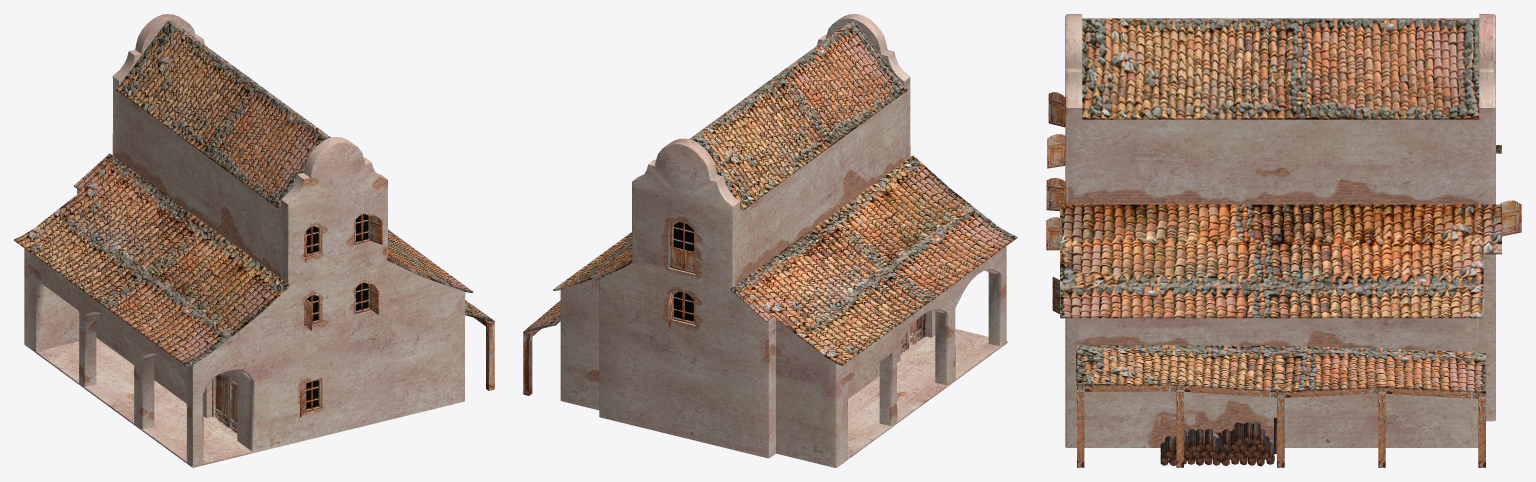
Rendered from Villa.glb.
3 renders of one model, left to right at view 1: azimuth 30°, elevation 25°; view 2: azimuth 150°, elevation 25°; view 3: azimuth 270°, elevation 25°, orthographic. The views are drawn at different scales.
Visible parts, largest first — view 1: Box001, Box009, Box006, Box005, Box002, Box010, Box003, Box004; view 2: Box001, Box008, Box007, Box010, Box009; view 3: Box001, Object001_Material #2_0, Box010, Box007, Box006, Box003, Box004.
Boxes of the visible parts, <box> form: Box001: <box>14,14,473,467</box>; Box009: <box>212,373,237,434</box>; Box006: <box>354,212,382,244</box>; Box005: <box>354,281,378,314</box>; Box002: <box>300,378,321,417</box>; Box010: <box>474,317,494,390</box>; Box003: <box>304,293,321,330</box>; Box004: <box>304,225,321,262</box>; Box001: <box>553,14,1017,467</box>; Box008: <box>669,220,695,273</box>; Box007: <box>669,290,695,328</box>; Box010: <box>523,329,540,395</box>; Box009: <box>900,313,925,354</box>; Box001: <box>1060,14,1501,447</box>; Object001_Material #2_0: <box>1076,345,1485,393</box>; Box010: <box>1077,385,1485,467</box>; Box007: <box>1499,200,1521,236</box>; Box006: <box>1047,134,1065,168</box>; Box003: <box>1046,177,1065,211</box>; Box004: <box>1048,92,1065,127</box>.
Bounding box in the file's own units: 62.92 × 55.93 × 67.28.
Materials: 2 (2 with a texture image).
